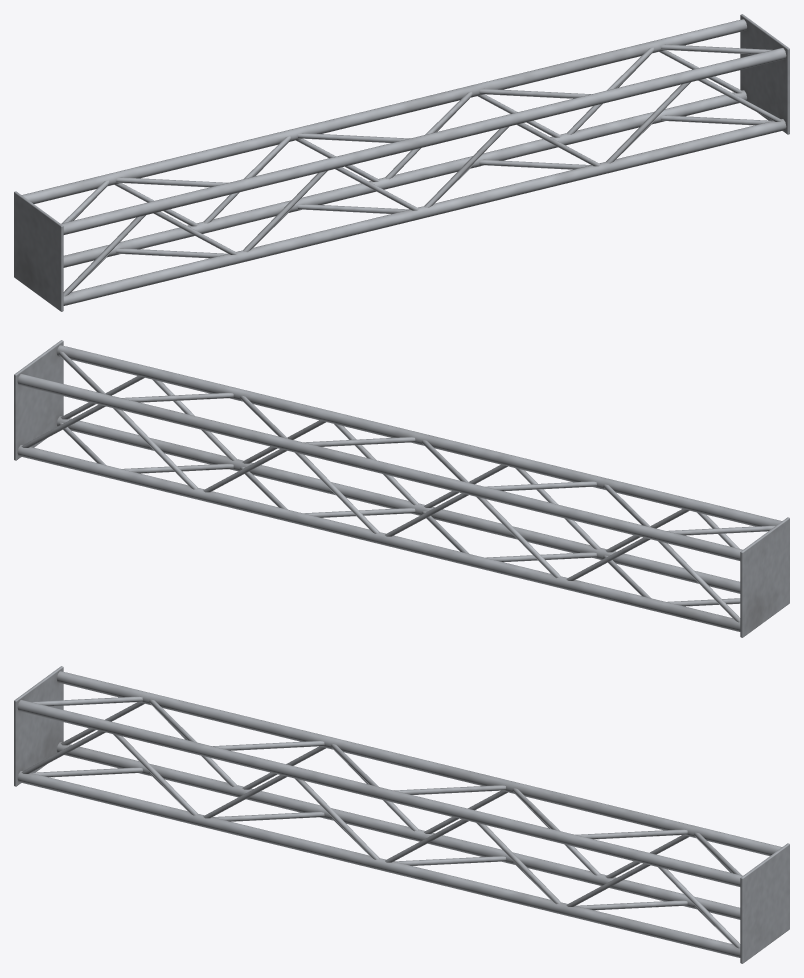
The model's file is klub_krata.glb.
3 views of the same model, one above another, from view 1: azimuth 30°, elevation 25°; view 2: azimuth 150°, elevation 25°; view 3: azimuth 330°, elevation 25° (orthographic).
Parts seen in each view (by area): view 1: Krata; view 2: Krata; view 3: Krata.
Boxes of the visible parts, left/top/right/bottom form: Krata: left=14, top=14, right=789, bottom=311; Krata: left=14, top=340, right=789, bottom=637; Krata: left=14, top=666, right=789, bottom=963.
Bounding box in the file's own units: 3.01 × 0.34 × 0.34.
1 material, 1 textured.
